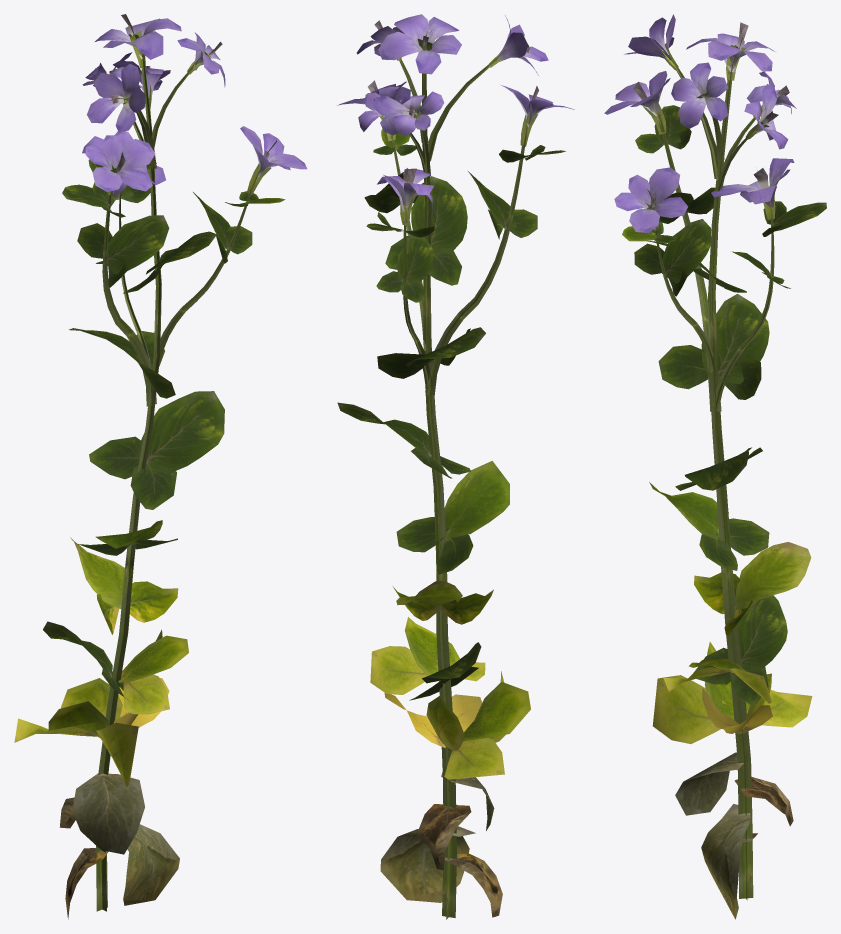
The model's file is Periwinkle_bush_normal_purple.glb.
3 renders of one model, left to right at view 1: azimuth 30°, elevation 25°; view 2: azimuth 150°, elevation 25°; view 3: azimuth 270°, elevation 25°, orthographic.
Visible parts, largest first — view 1: _b868_Var1_LOD1; view 2: _b868_Var1_LOD1; view 3: _b868_Var1_LOD1.
Boxes of the visible parts, x1=… form: _b868_Var1_LOD1: x1=14, y1=14, x2=307, y2=919; _b868_Var1_LOD1: x1=337, y1=14, x2=574, y2=919; _b868_Var1_LOD1: x1=604, y1=14, x2=826, y2=919.
Size of the model in its own units: 0.7589 by 2.81 by 0.6398.
1 material, 1 textured.
